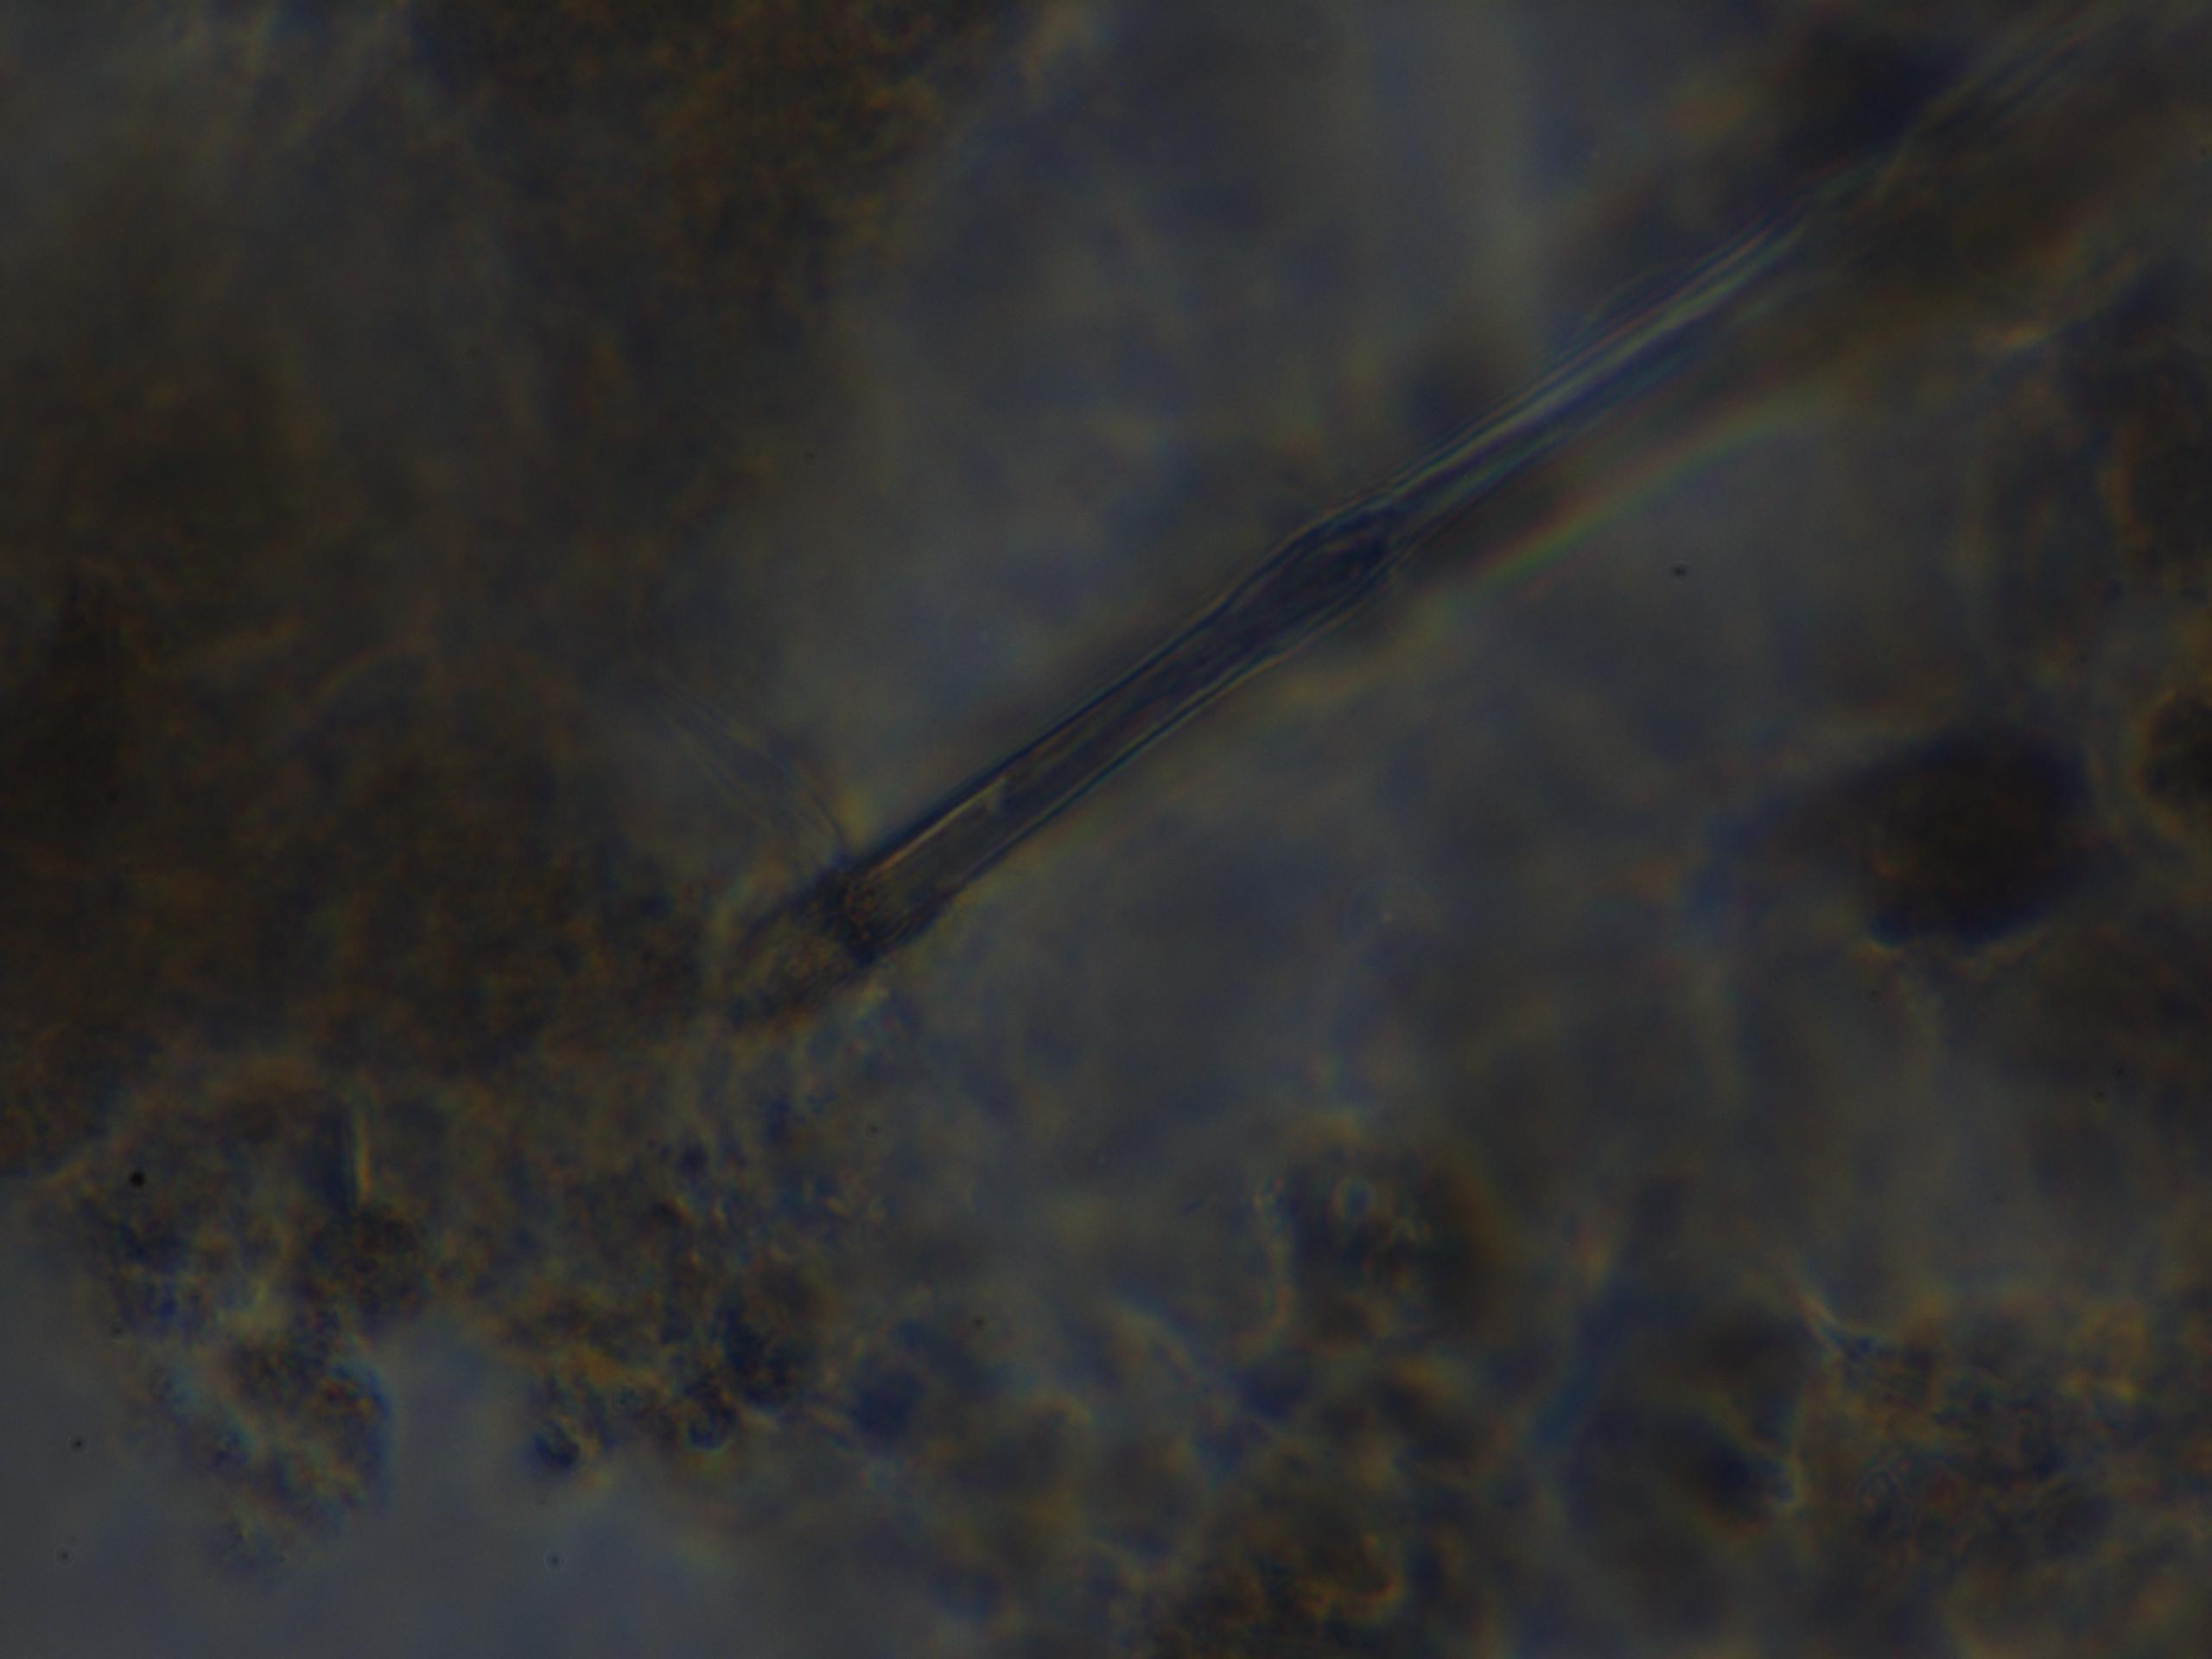filament: (740, 0, 2212, 1016)
